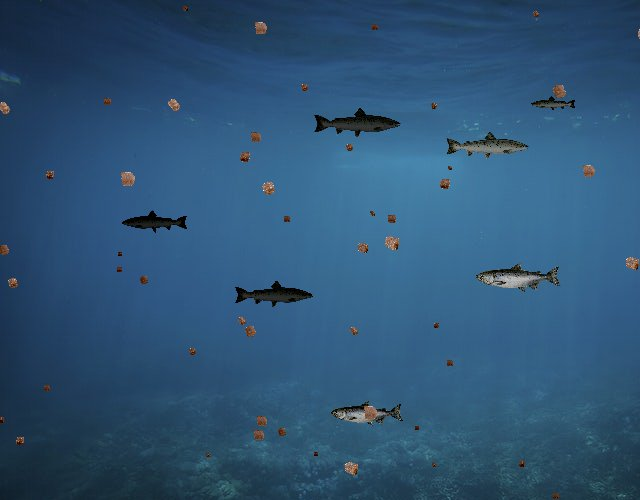Fish: (313, 106, 403, 139), (444, 130, 530, 161), (476, 262, 562, 293), (234, 279, 315, 309), (331, 400, 404, 427), (122, 210, 190, 234), (530, 96, 577, 113)
Pellet: (112, 163, 142, 194), (247, 15, 274, 42), (1, 272, 24, 294), (233, 146, 256, 168), (344, 322, 363, 341), (382, 210, 400, 228), (514, 457, 528, 471), (368, 20, 382, 34), (430, 319, 443, 332), (179, 2, 192, 15), (113, 263, 125, 275), (202, 450, 212, 460)
